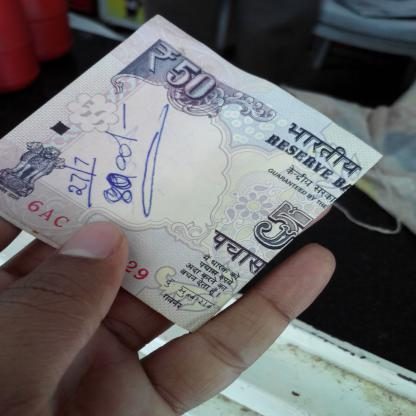Old50Front: (0, 13, 385, 332)
